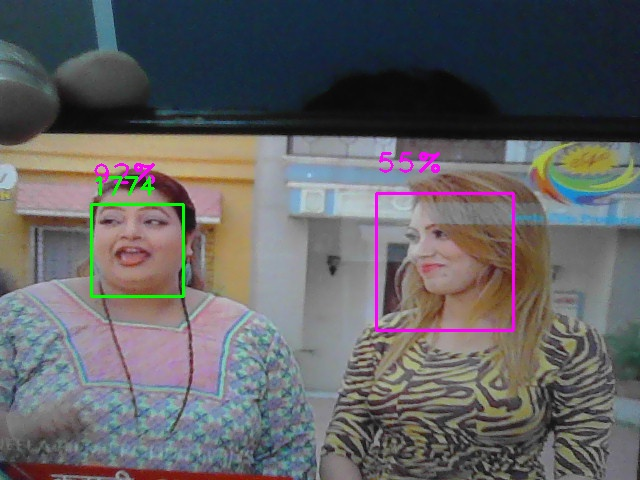fake: (91, 204, 184, 297)
